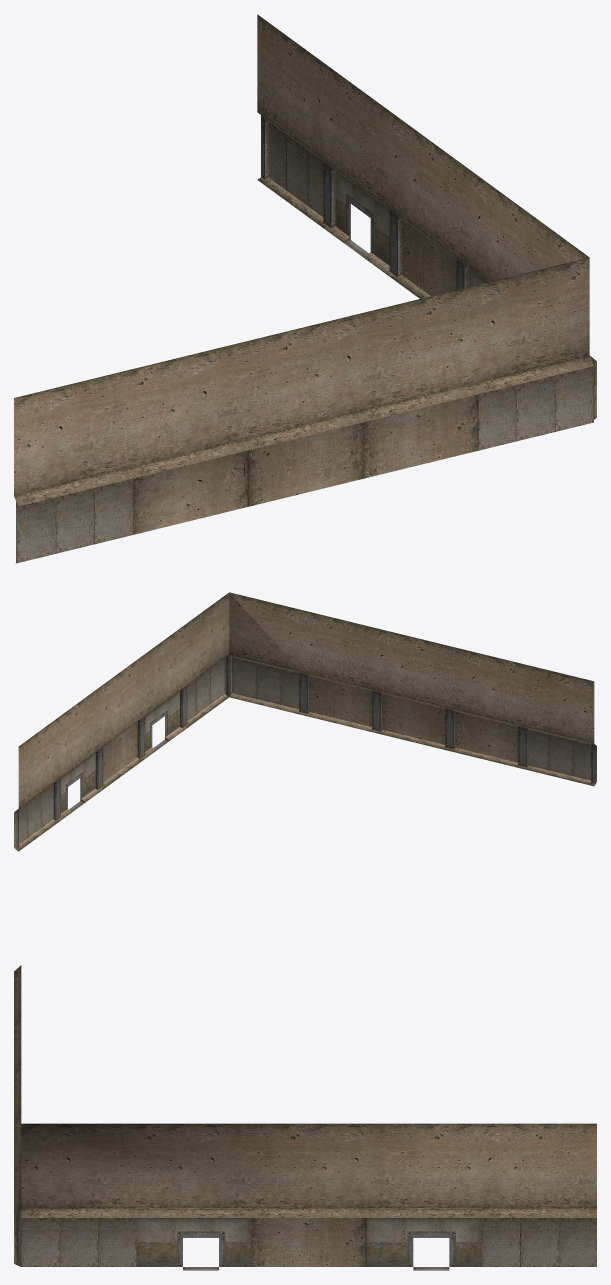
The model's file is M11Z2_InnerWalls2.glb.
3 views of the same model, one above another, from view 1: azimuth 30°, elevation 25°; view 2: azimuth 150°, elevation 25°; view 3: azimuth 270°, elevation 25° (orthographic). The views are drawn at different scales.
Parts seen in each view (by area): view 1: M11Z2_INNERWALLS2; view 2: M11Z2_INNERWALLS2; view 3: M11Z2_INNERWALLS2.
Part boxes in pixels (box(x1,y1,x2,y2)): M11Z2_INNERWALLS2: box(14, 14, 596, 563); M11Z2_INNERWALLS2: box(14, 592, 596, 851); M11Z2_INNERWALLS2: box(14, 965, 596, 1270).
Bounding box in the file's own units: 40.6 × 11 × 40.5.
5 materials, 5 textured.
